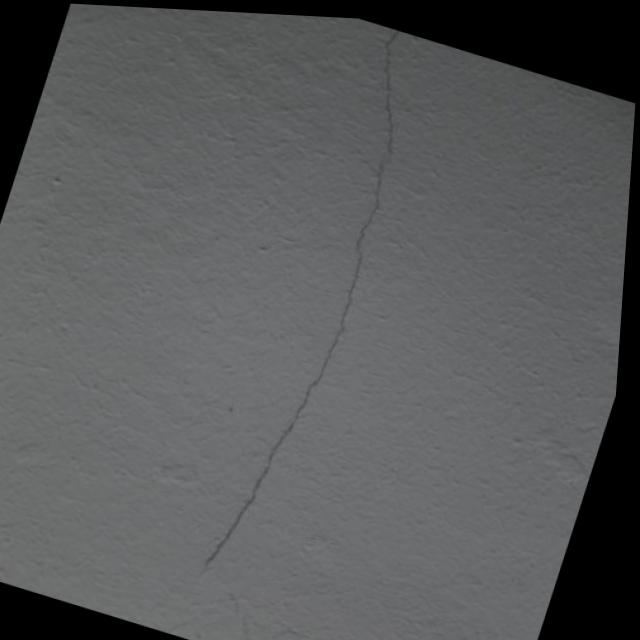Crack: (185, 9, 442, 597)
